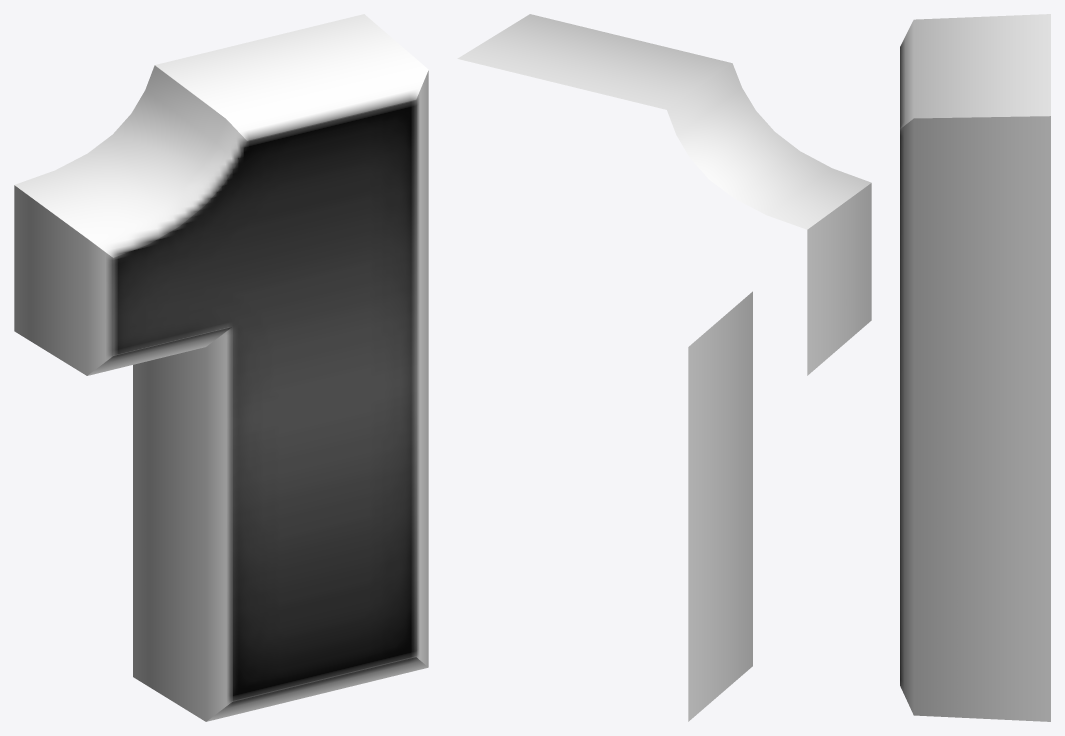
File: bbl_score_model__score_1a.glb
3 renders of one model, left to right at view 1: azimuth 30°, elevation 25°; view 2: azimuth 150°, elevation 25°; view 3: azimuth 270°, elevation 25°, orthographic.
Parts seen in each view (by area): view 1: polygon1, polygon0; view 2: polygon0; view 3: polygon0.
Part boxes in pixels (x1,y1,x2,y2): polygon1: (113, 100, 416, 701); polygon0: (14, 14, 428, 721); polygon0: (457, 14, 871, 721); polygon0: (900, 14, 1050, 721).
Size of the model in its own units: 2.94 by 4.88 by 1.1.
Materials: 2 (2 with a texture image).
